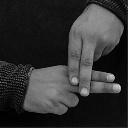hand: (66, 3, 124, 96), (22, 66, 121, 115)
